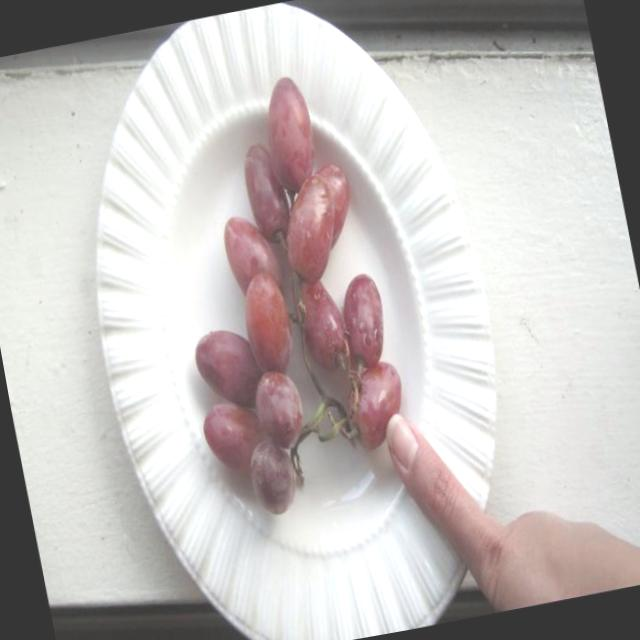Finger: (379, 402, 471, 558)
Grapes: (133, 55, 404, 450)
